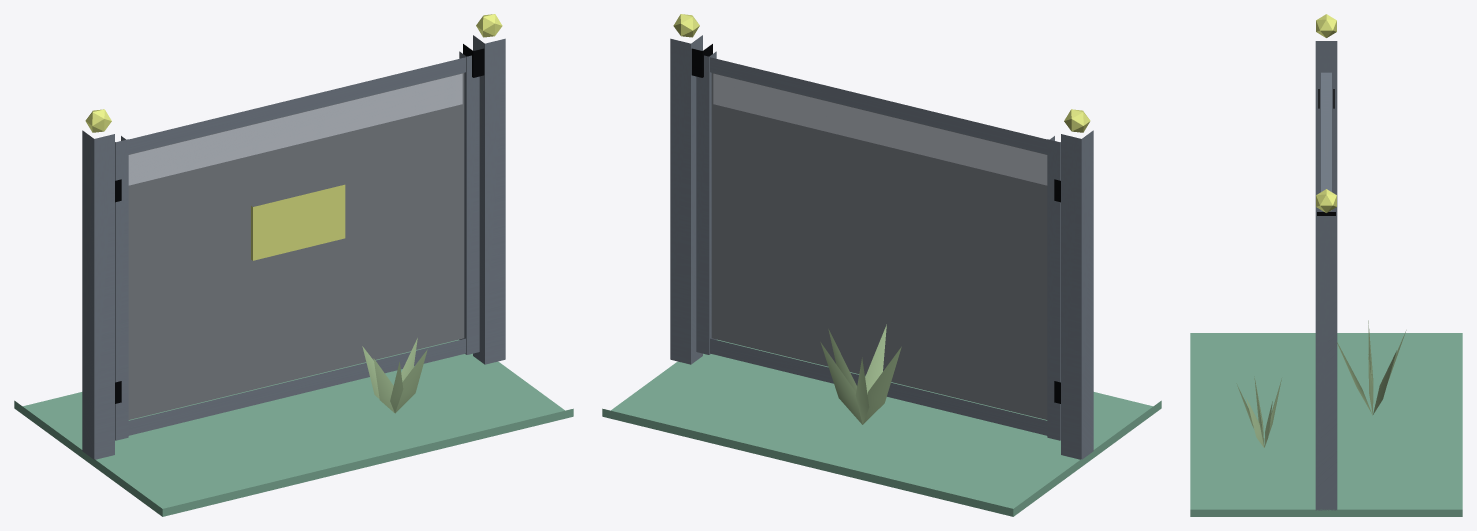
The model's file is tt_fence_gate.glb.
3 views of the same model, side by side, from view 1: azimuth 30°, elevation 25°; view 2: azimuth 150°, elevation 25°; view 3: azimuth 270°, elevation 25° (orthographic). The views are drawn at different scales.
Visible parts, largest first — view 1: Gate_Infill, Safety_Pad, Posts, Gate_Infill_Tape, Gate_Rails, Gate_Frame, Gate_Sign, Grass_Tufts, Ball_Finials; view 2: Gate_Infill, Safety_Pad, Posts, Gate_Infill_Tape, Gate_Rails, Gate_Frame, Grass_Tufts, Ball_Finials; view 3: Safety_Pad, Posts, Grass_Tufts, Gate_Rails, Ball_Finials, Gate_Frame.
Part boxes in pixels (x1,y1,x2,y2): Gate_Infill: (128, 73, 464, 419); Safety_Pad: (14, 339, 573, 516); Posts: (82, 35, 505, 459); Gate_Infill_Tape: (128, 73, 462, 185); Gate_Rails: (121, 57, 465, 435); Gate_Frame: (115, 51, 479, 440); Gate_Sign: (251, 184, 345, 260); Grass_Tufts: (262, 338, 427, 413); Ball_Finials: (85, 14, 502, 132); Gate_Infill: (711, 73, 1047, 419); Safety_Pad: (602, 339, 1161, 516); Posts: (670, 35, 1093, 459); Gate_Infill_Tape: (713, 73, 1047, 185); Gate_Rails: (710, 57, 1054, 435); Gate_Frame: (696, 51, 1060, 440); Grass_Tufts: (820, 324, 901, 424); Ball_Finials: (673, 14, 1090, 132); Safety_Pad: (1190, 333, 1462, 516); Posts: (1315, 41, 1337, 510); Grass_Tufts: (1236, 320, 1406, 447); Gate_Rails: (1321, 72, 1331, 211); Ball_Finials: (1316, 14, 1336, 212); Gate_Frame: (1319, 58, 1333, 211).
Size of what is drawn, in the model's own units: 1.6 by 1.3 by 1.
Materials: 7 (3 with a texture image).
